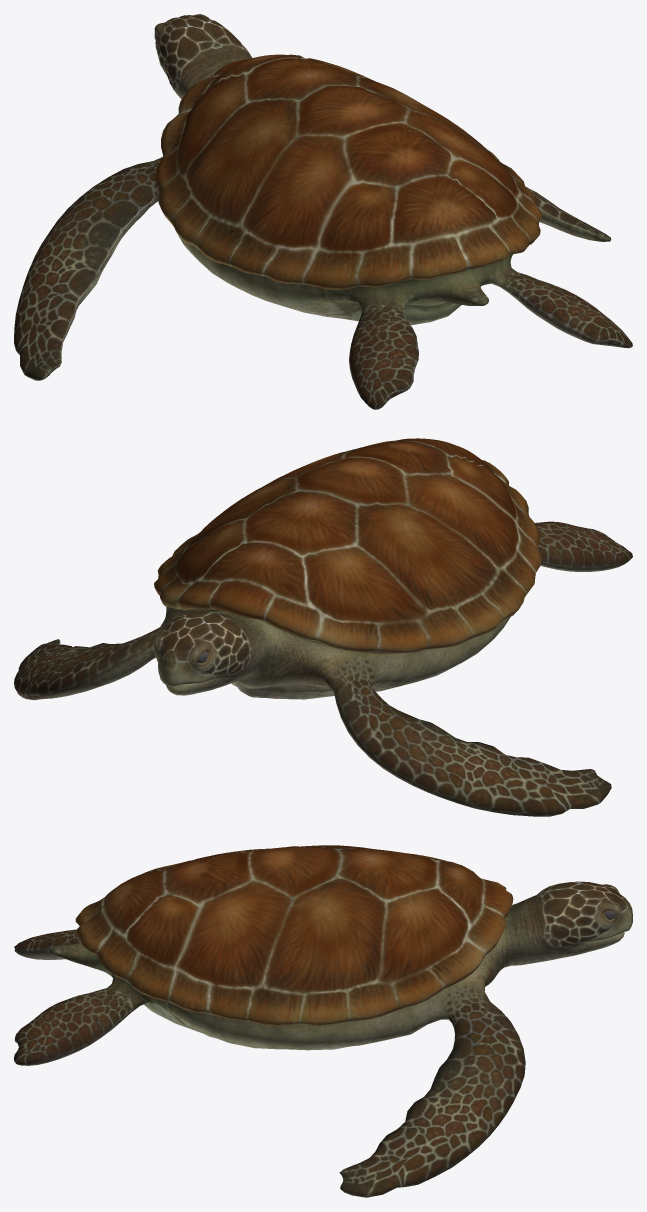
Rendered from sea_turtle_low_poly.glb.
3 views of the same model, one above another, from view 1: azimuth 30°, elevation 25°; view 2: azimuth 150°, elevation 25°; view 3: azimuth 270°, elevation 25° (orthographic). The views are drawn at different scales.
Parts seen in each view (by area): view 1: turt lp arms down; view 2: turt lp arms down; view 3: turt lp arms down.
Part boxes in pixels (x1,y1,x2,y2): turt lp arms down: [14, 14, 632, 409]; turt lp arms down: [14, 438, 632, 816]; turt lp arms down: [14, 845, 632, 1197].
Bounding box in the file's own units: 53.23 × 20.59 × 53.9.
3 materials, 2 textured.
